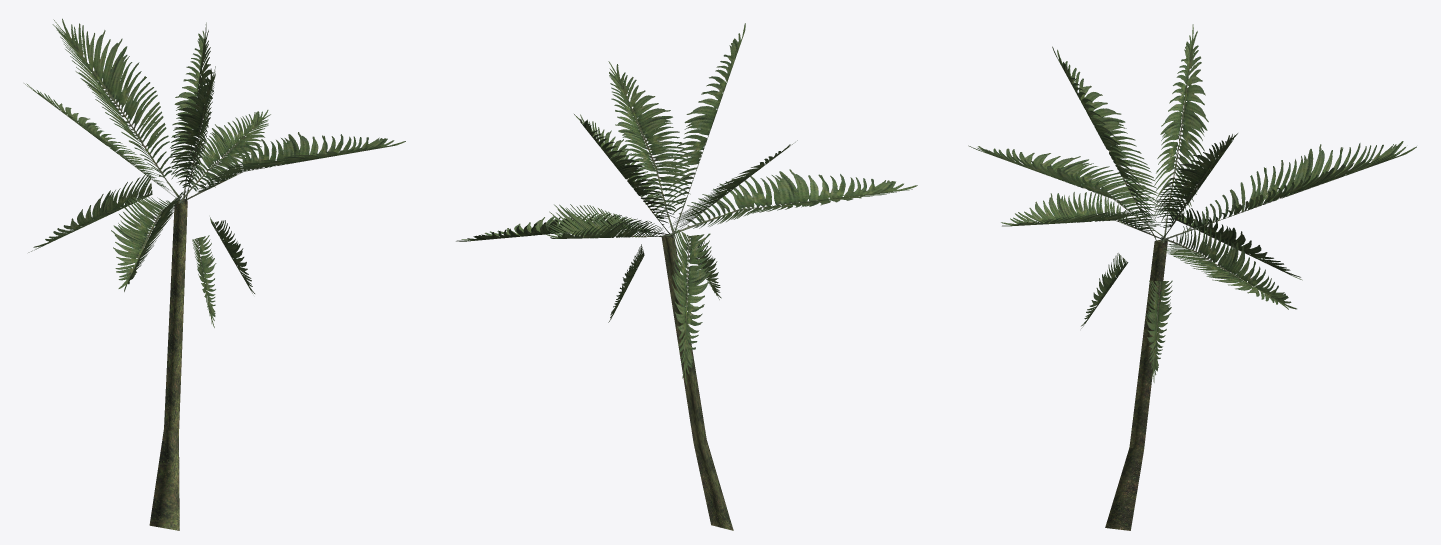
Rendered from ever_palmtree_fngi_l2.fbx.
3 views of the same model, side by side, from view 1: azimuth 30°, elevation 25°; view 2: azimuth 150°, elevation 25°; view 3: azimuth 270°, elevation 25° (orthographic). The views are drawn at different scales.
Visible parts, largest first — view 1: mesh_node; view 2: mesh_node; view 3: mesh_node.
Part boxes in pixels (x1,y1,x2,y2): mesh_node: (24, 18, 405, 530); mesh_node: (456, 23, 917, 530); mesh_node: (968, 24, 1416, 530).
Bounding box in the file's own units: 7.92 × 11.43 × 9.79.
Materials: 2 (2 with a texture image).
